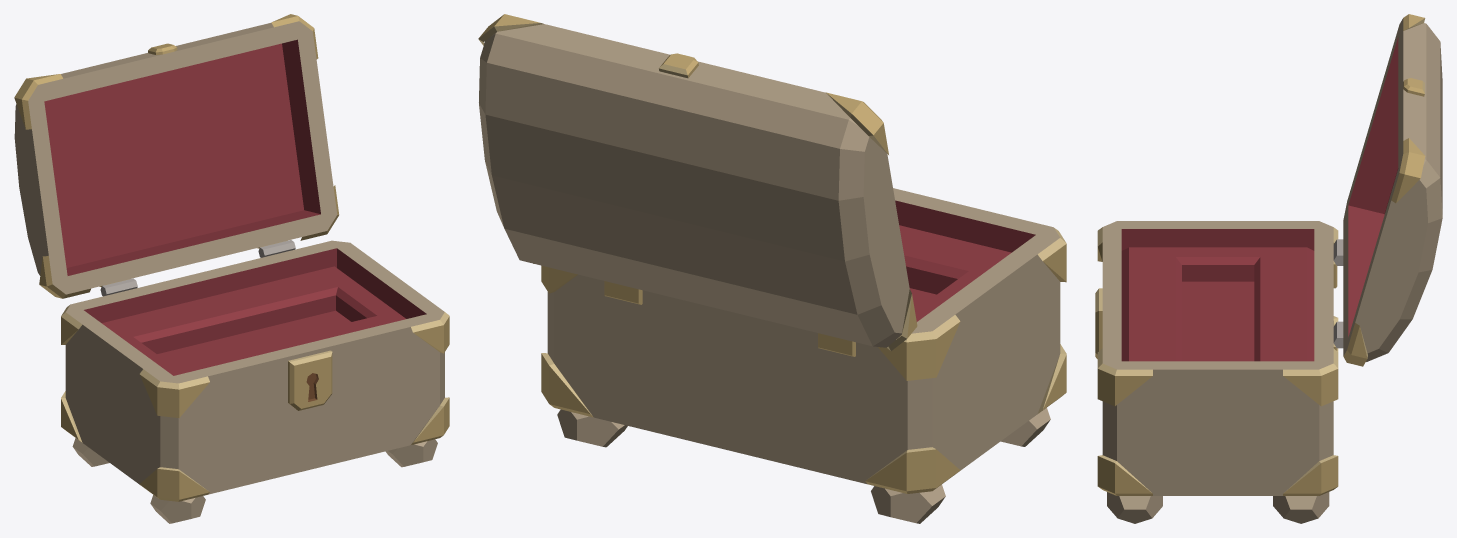
The model's file is jewel-casket-975ecc.glb.
3 renders of one model, left to right at view 1: azimuth 30°, elevation 25°; view 2: azimuth 150°, elevation 25°; view 3: azimuth 270°, elevation 25°, orthographic. The views are drawn at different scales.
Visible parts, largest first — view 1: casket-body, lid-shell, casket-trim, lid-trim; view 2: lid-shell, casket-body, casket-trim, lid-trim; view 3: casket-body, lid-shell, casket-trim, lid-trim.
Boxes of the visible parts, x1,y1,x2,y2 form: casket-body: (65,240,444,523); lid-shell: (14,21,337,294); casket-trim: (61,240,449,501); lid-trim: (14,14,339,298); lid-shell: (479,24,909,347); casket-body: (547,188,1060,523); casket-trim: (541,228,1066,493); lid-trim: (478,14,917,350); casket-body: (1102,221,1333,523); lid-shell: (1343,18,1442,361); casket-trim: (1095,227,1343,495); lid-trim: (1343,14,1425,366).
Size of the model in its own units: 0.3 by 0.3459 by 0.2886.
